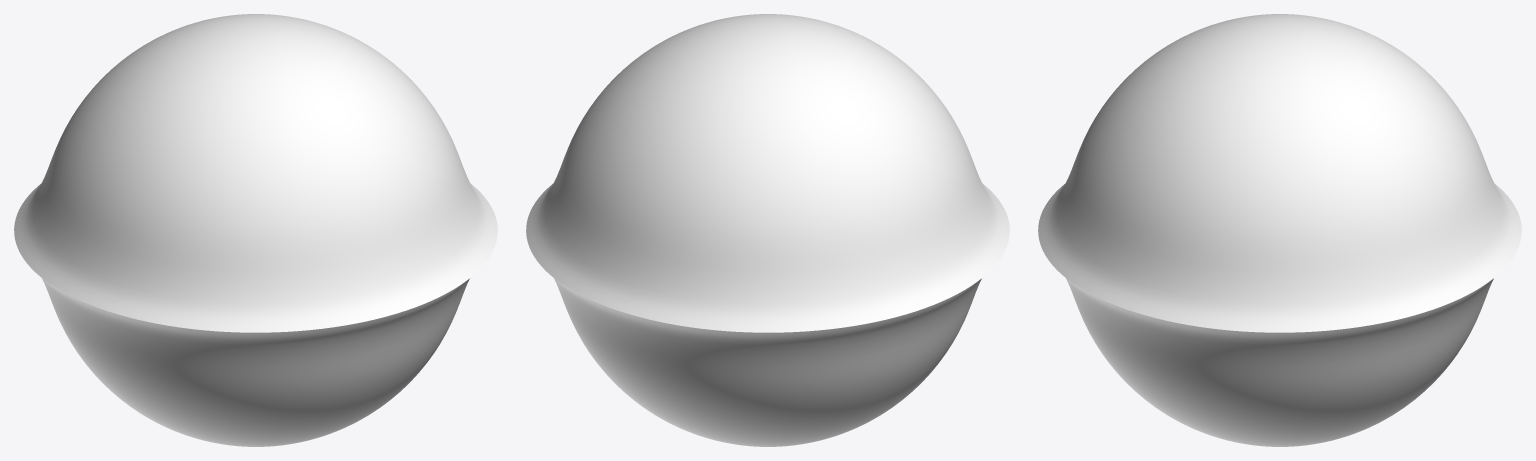
The model's file is blackhole_hole.obj.
3 views of the same model, side by side, from view 1: azimuth 30°, elevation 25°; view 2: azimuth 150°, elevation 25°; view 3: azimuth 270°, elevation 25° (orthographic).
Parts seen in each view (by area): view 1: Blackhole_skin_001_Blackhole_skin_0_0; view 2: Blackhole_skin_001_Blackhole_skin_0_0; view 3: Blackhole_skin_001_Blackhole_skin_0_0.
Boxes of the visible parts, x1,y1,x2,y2 form: Blackhole_skin_001_Blackhole_skin_0_0: [14, 14, 497, 446]; Blackhole_skin_001_Blackhole_skin_0_0: [526, 14, 1009, 446]; Blackhole_skin_001_Blackhole_skin_0_0: [1038, 14, 1521, 446].
Bounding box in the file's own units: 1.98 × 1.77 × 1.98.
Materials: 4 (4 with a texture image).
